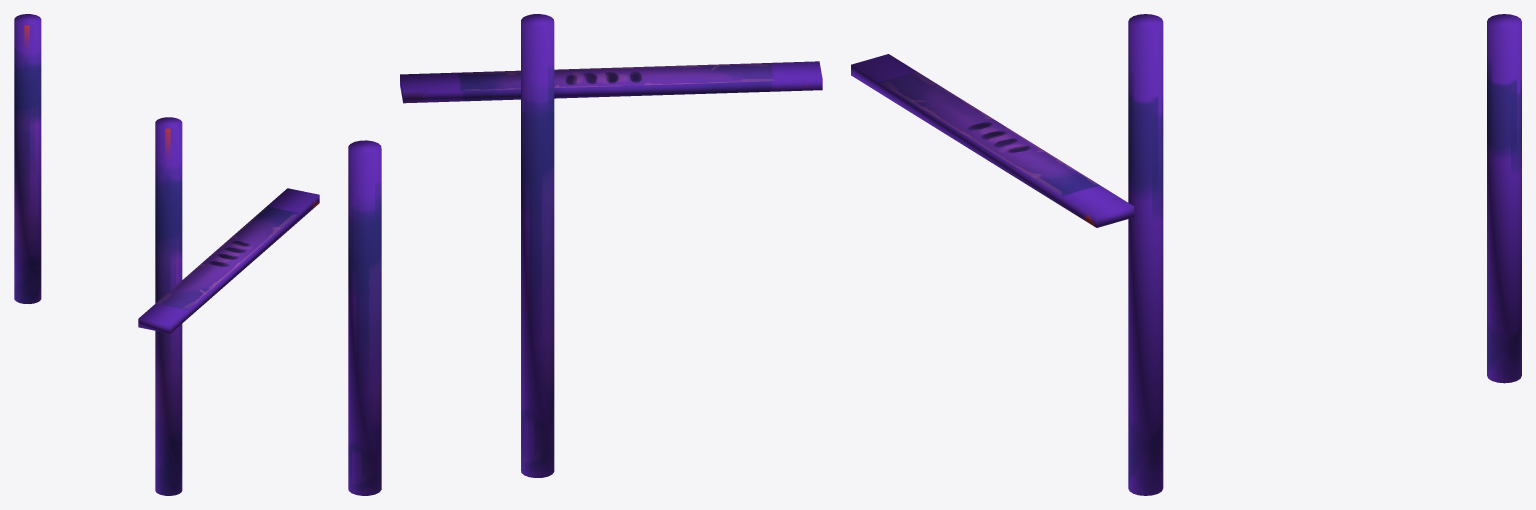
File: Frame3.fbx
3 views of the same model, side by side, from view 1: azimuth 30°, elevation 25°; view 2: azimuth 150°, elevation 25°; view 3: azimuth 270°, elevation 25° (orthographic). The views are drawn at different scales.
Parts seen in each view (by area): view 1: Frame3; view 2: Frame3; view 3: Frame3.
Part boxes in pixels (<box>): Frame3: <box>14,14,319,495</box>; Frame3: <box>348,14,822,495</box>; Frame3: <box>851,14,1521,495</box>.
Size of the model in its own units: 837 by 1452 by 1116.
